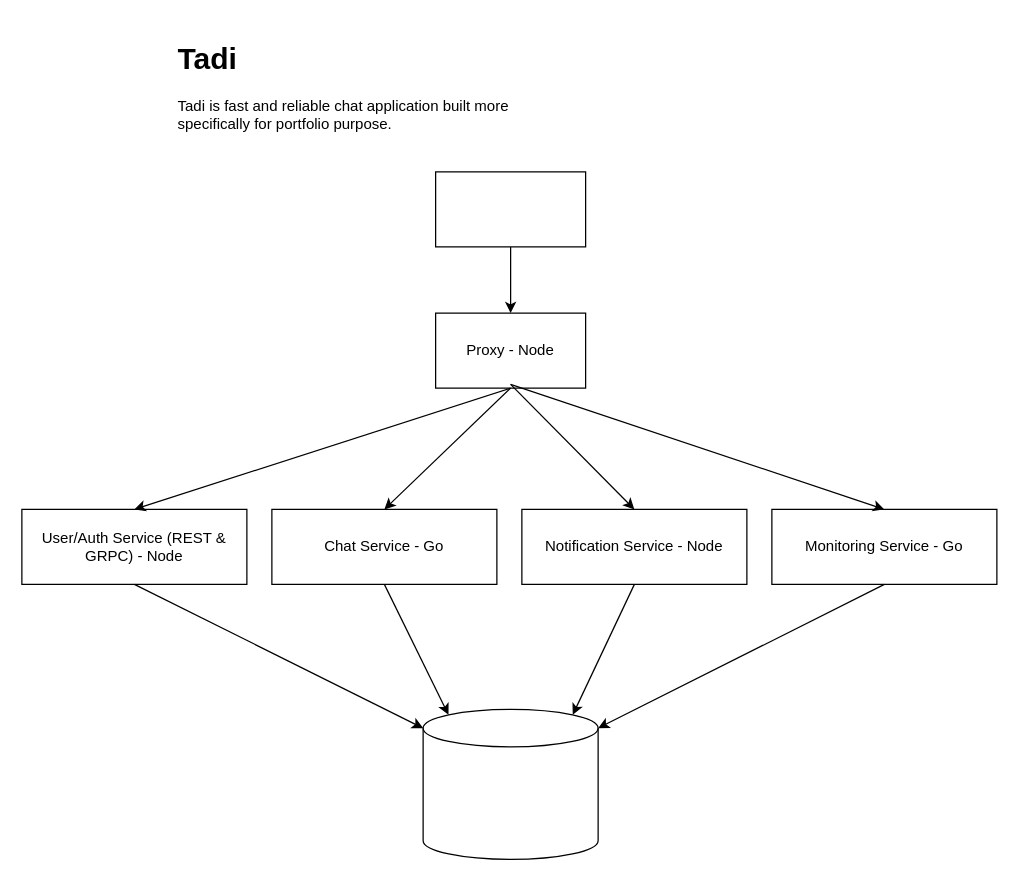
The diagram is 1019 pixels wide and 881 high, and some of its shapes have lost their labels. The box of each missing label's shape, as (x1, y1, x2, y2) in pixels:
Client/FE: (434, 171, 586, 247)
Database (MongoDB): (422, 708, 598, 859)
